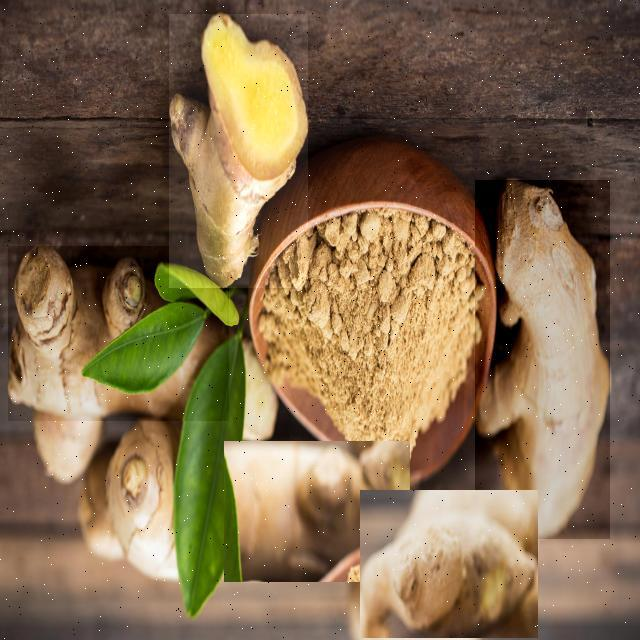ginger: (474, 179, 609, 537), (8, 245, 228, 419), (169, 13, 307, 287), (359, 489, 537, 637), (223, 441, 409, 580)
